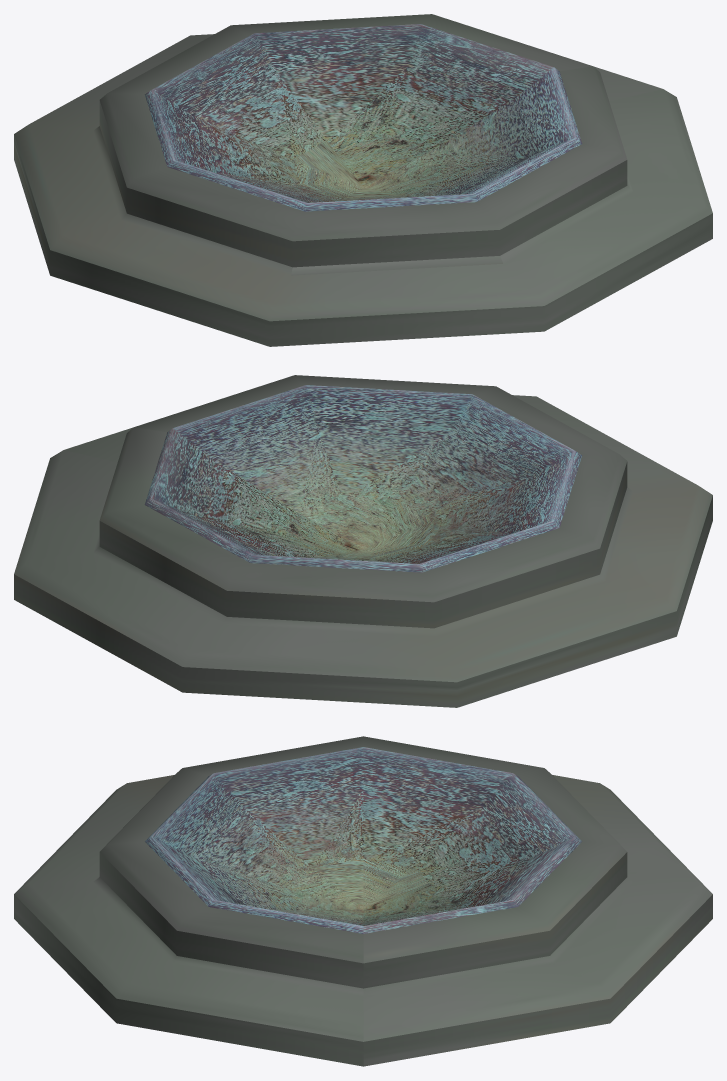
The model's file is Scylla BathTub.FBX.
The picture shows the model from 3 angles, top to bottom: view 1: azimuth 30°, elevation 25°; view 2: azimuth 150°, elevation 25°; view 3: azimuth 270°, elevation 25°; orthographic projection. The views are drawn at different scales.
Parts seen in each view (by area): view 1: Cylinder001; view 2: Cylinder001; view 3: Cylinder001.
Part boxes in pixels (box(x1,y1,x2,y2)): Cylinder001: box(14, 14, 712, 346); Cylinder001: box(14, 375, 712, 707); Cylinder001: box(14, 736, 712, 1066).
Bounding box in the file's own units: 139 × 18.13 × 139.
